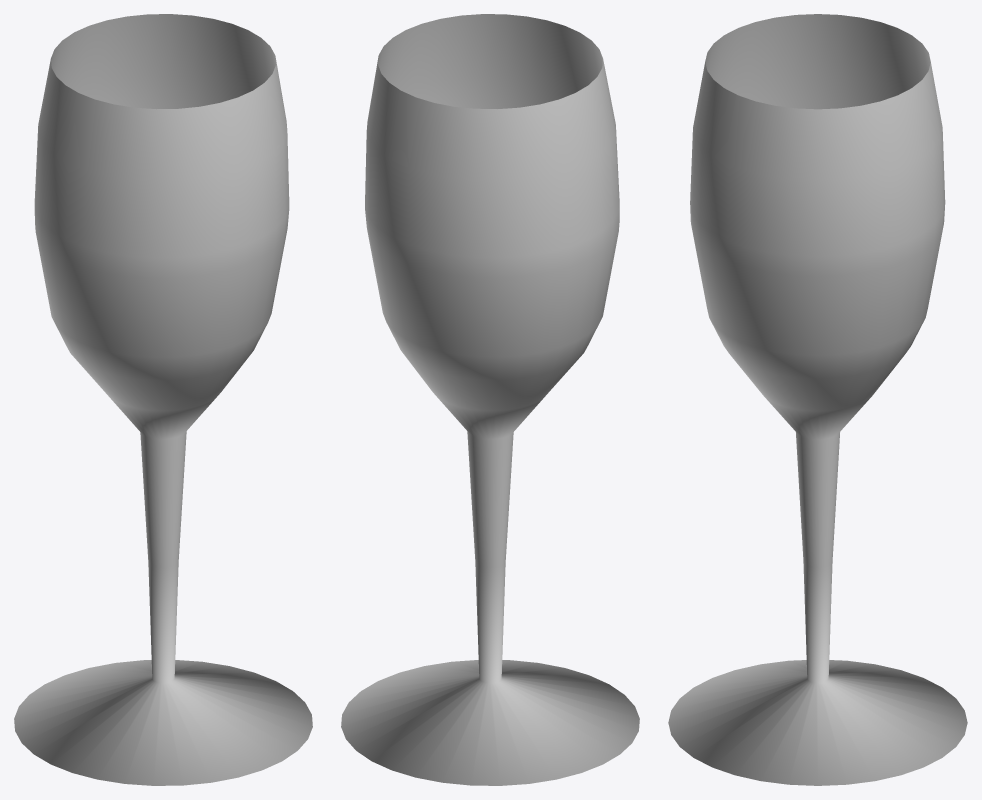
File: WineGlass (1).fbx
The picture shows the model from 3 angles, left to right: view 1: azimuth 30°, elevation 25°; view 2: azimuth 150°, elevation 25°; view 3: azimuth 270°, elevation 25°; orthographic projection.
Parts seen in each view (by area): view 1: Cylinder; view 2: Cylinder; view 3: Cylinder.
Part boxes in pixels (bbox=[...]): Cylinder: bbox=[14, 14, 312, 785]; Cylinder: bbox=[341, 14, 639, 785]; Cylinder: bbox=[668, 14, 967, 785].
Size of the model in its own units: 245 by 596 by 245.
1 material, 1 textured.
